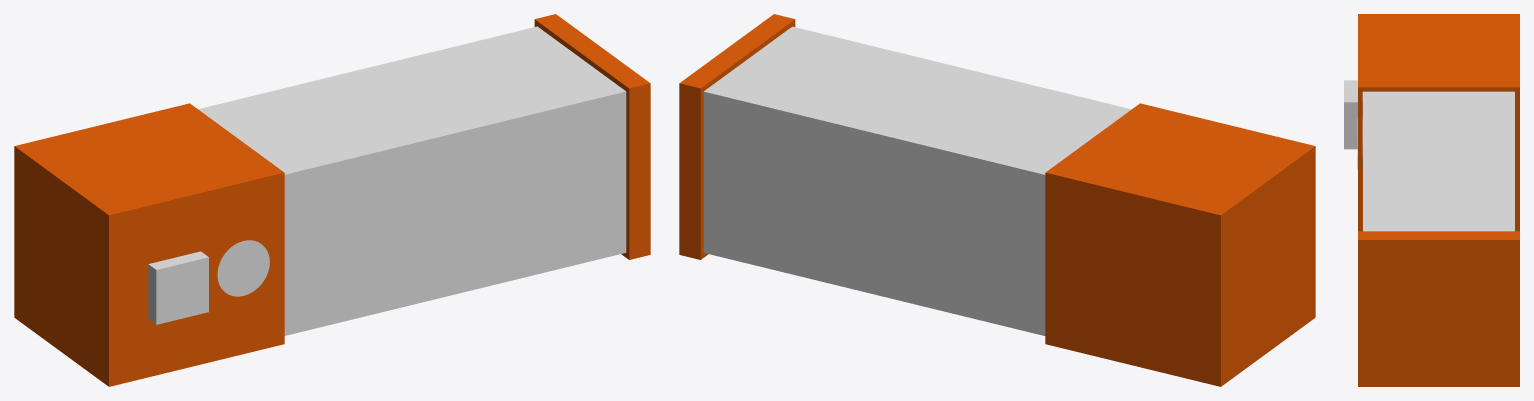
Rendered from Enclosure.fbx.
The picture shows the model from 3 angles, left to right: view 1: azimuth 30°, elevation 25°; view 2: azimuth 150°, elevation 25°; view 3: azimuth 270°, elevation 25°; orthographic projection. The views are drawn at different scales.
Parts seen in each view (by area): view 1: Cover.001, Cube, Cover.002, Cube.001, Cube.002, ref_led, Cylinder.004, Cover; view 2: Cover.003, Cube, Cover.002, Cube.001, Cube.002, Cover; view 3: Cube.002, Cover.002, Cube, Cube.001, ref_led.
Part boxes in pixels (box(x1,y1,x2,y2)): Cover.001: box(284, 93, 626, 334); Cube: box(31, 103, 284, 382); Cover.002: box(198, 26, 626, 176); Cube.001: box(14, 142, 125, 386); Cube.002: box(534, 14, 650, 259); ref_led: box(148, 251, 208, 324); Cylinder.004: box(217, 240, 269, 296); Cover: box(284, 251, 626, 335); Cover.003: box(703, 93, 1045, 334); Cube: box(1045, 103, 1298, 382); Cover.002: box(703, 26, 1131, 176); Cube.001: box(1204, 142, 1315, 386); Cube.002: box(679, 14, 795, 259); Cover: box(703, 251, 1045, 335); Cube.002: box(1358, 231, 1519, 386); Cover.002: box(1363, 91, 1514, 231); Cube: box(1358, 21, 1519, 231); Cube.001: box(1358, 14, 1519, 20); ref_led: box(1344, 80, 1362, 149).
Bounding box in the file's own units: 3302 × 1000 × 1085.
